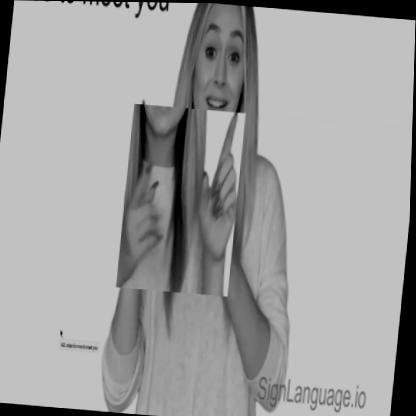NiceToMeetYou: (118, 103, 247, 296)
